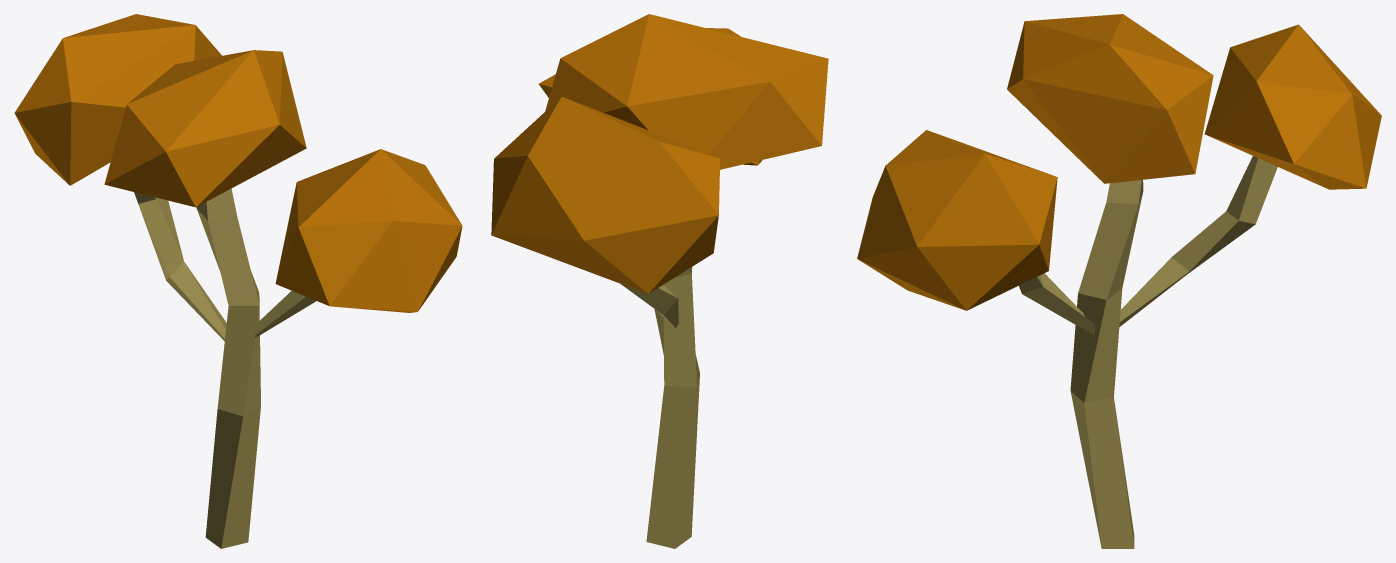
The model's file is Tree_Fall_9.fbx.
The picture shows the model from 3 angles, left to right: view 1: azimuth 30°, elevation 25°; view 2: azimuth 150°, elevation 25°; view 3: azimuth 270°, elevation 25°; orthographic projection. The views are drawn at different scales.
Parts seen in each view (by area): view 1: Leaves.001, Leaves.002, Leaves, Trunk, Trunk.002, Trunk.001; view 2: Leaves, Leaves.002, Trunk, Trunk.002; view 3: Leaves.001, Leaves.002, Leaves, Trunk, Trunk.002, Trunk.001.
Part boxes in pixels (bbox=[...]): Leaves.001: bbox=[275, 149, 462, 312]; Leaves.002: bbox=[104, 50, 306, 207]; Leaves: bbox=[14, 14, 221, 185]; Trunk: bbox=[196, 188, 260, 548]; Trunk.002: bbox=[134, 192, 226, 340]; Trunk.001: bbox=[255, 291, 316, 337]; Leaves: bbox=[491, 96, 720, 293]; Leaves.002: bbox=[545, 14, 828, 169]; Trunk: bbox=[646, 267, 699, 548]; Trunk.002: bbox=[621, 284, 678, 327]; Leaves.001: bbox=[857, 130, 1057, 310]; Leaves.002: bbox=[1007, 14, 1213, 183]; Leaves: bbox=[1204, 24, 1381, 189]; Trunk: bbox=[1070, 179, 1143, 548]; Trunk.002: bbox=[1119, 156, 1277, 326]; Trunk.001: bbox=[1019, 273, 1095, 335].
Size of the model in its own units: 203 by 321 by 300.
